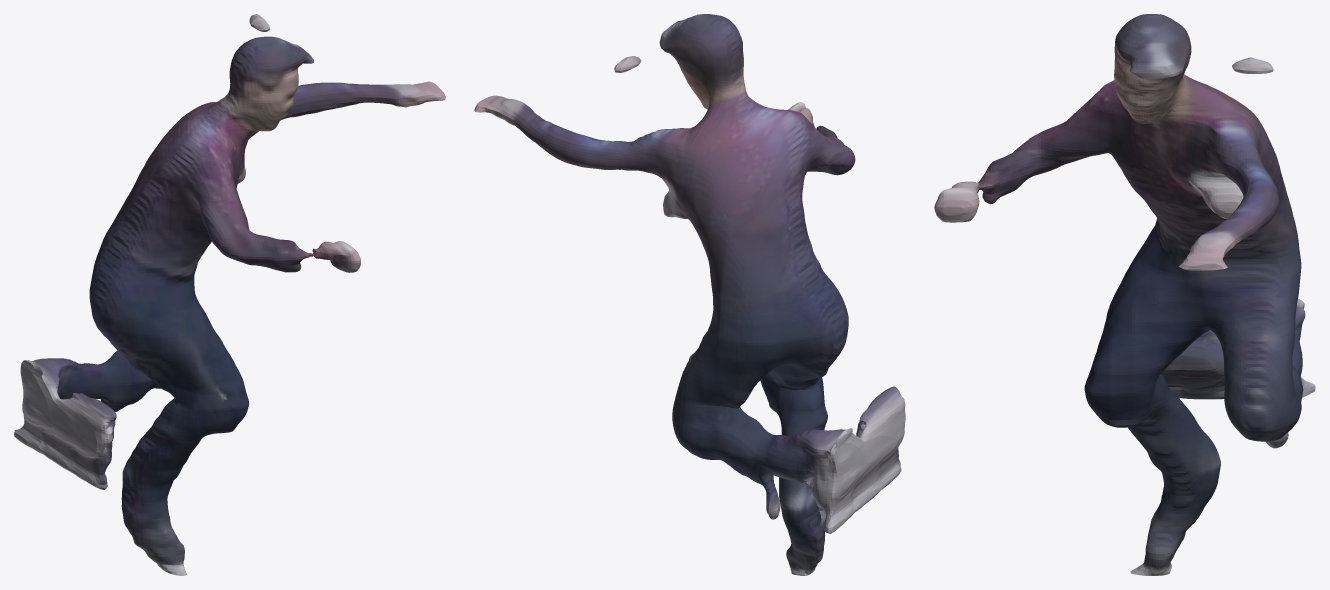
Rendered from 0013_tex.glb.
The picture shows the model from 3 angles, left to right: view 1: azimuth 30°, elevation 25°; view 2: azimuth 150°, elevation 25°; view 3: azimuth 270°, elevation 25°; orthographic projection. The views are drawn at different scales.
Parts seen in each view (by area): view 1: 0013_tex.obj; view 2: 0013_tex.obj; view 3: 0013_tex.obj.
Boxes of the visible parts, x1=… form: 0013_tex.obj: x1=14, y1=14, x2=445, y2=575; 0013_tex.obj: x1=474, y1=14, x2=905, y2=575; 0013_tex.obj: x1=934, y1=14, x2=1315, y2=575.
Size of the model in its own units: 0.6978 by 0.8871 by 0.5061.
